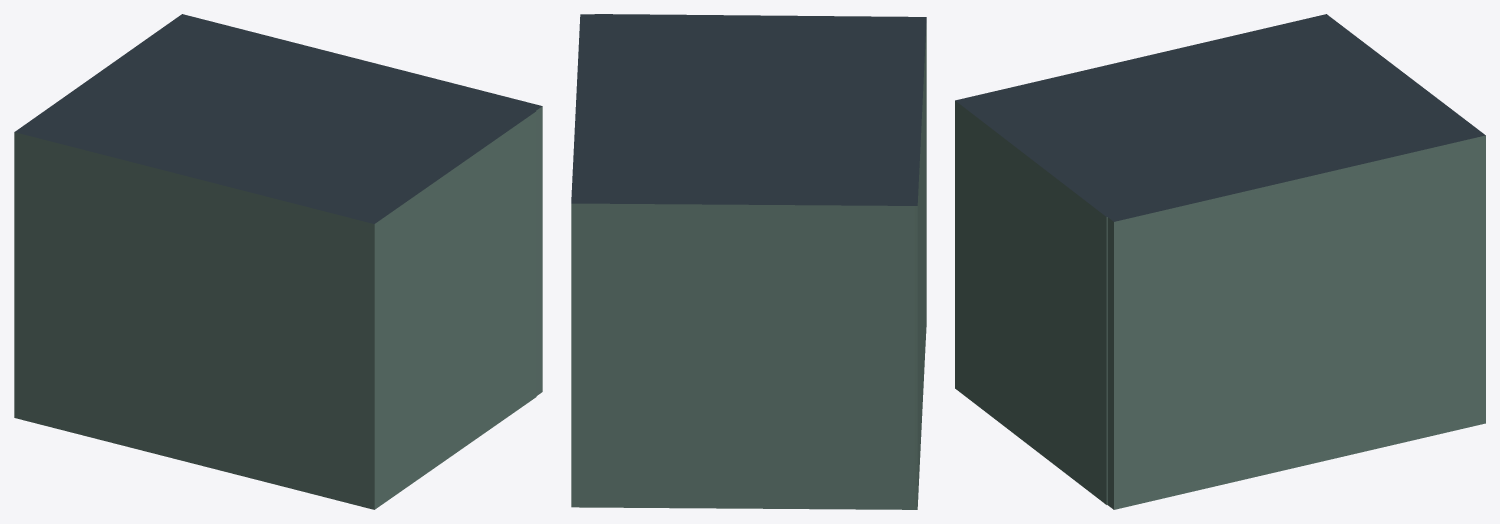
The model's file is nyc-1024705-0.glb.
The picture shows the model from 3 angles, left to right: view 1: azimuth 30°, elevation 25°; view 2: azimuth 150°, elevation 25°; view 3: azimuth 270°, elevation 25°; orthographic projection. The views are drawn at different scales.
Parts seen in each view (by area): view 1: nyc-1024705-0; view 2: nyc-1024705-0; view 3: nyc-1024705-0.
Boxes of the visible parts, left/top/right/bottom form: nyc-1024705-0: left=14, top=14, right=542, bottom=509; nyc-1024705-0: left=571, top=14, right=926, bottom=509; nyc-1024705-0: left=955, top=14, right=1485, bottom=509.
Bounding box in the file's own units: 35.5 × 22.93 × 38.3.
